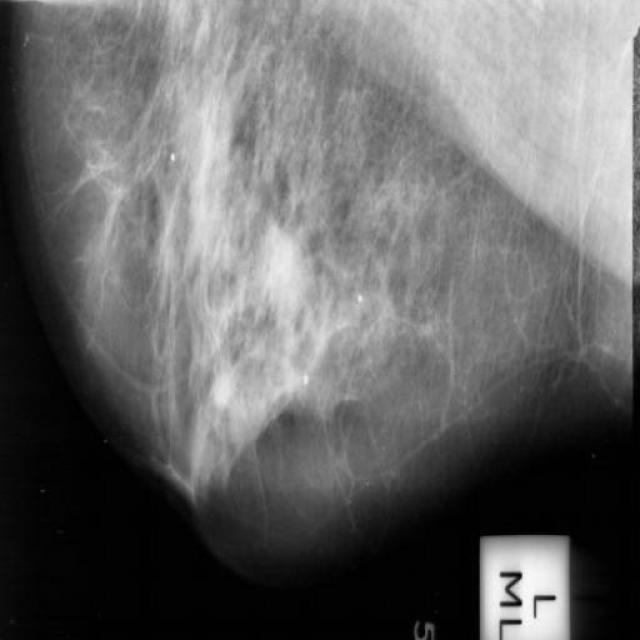cancer: (142, 150, 198, 296)
